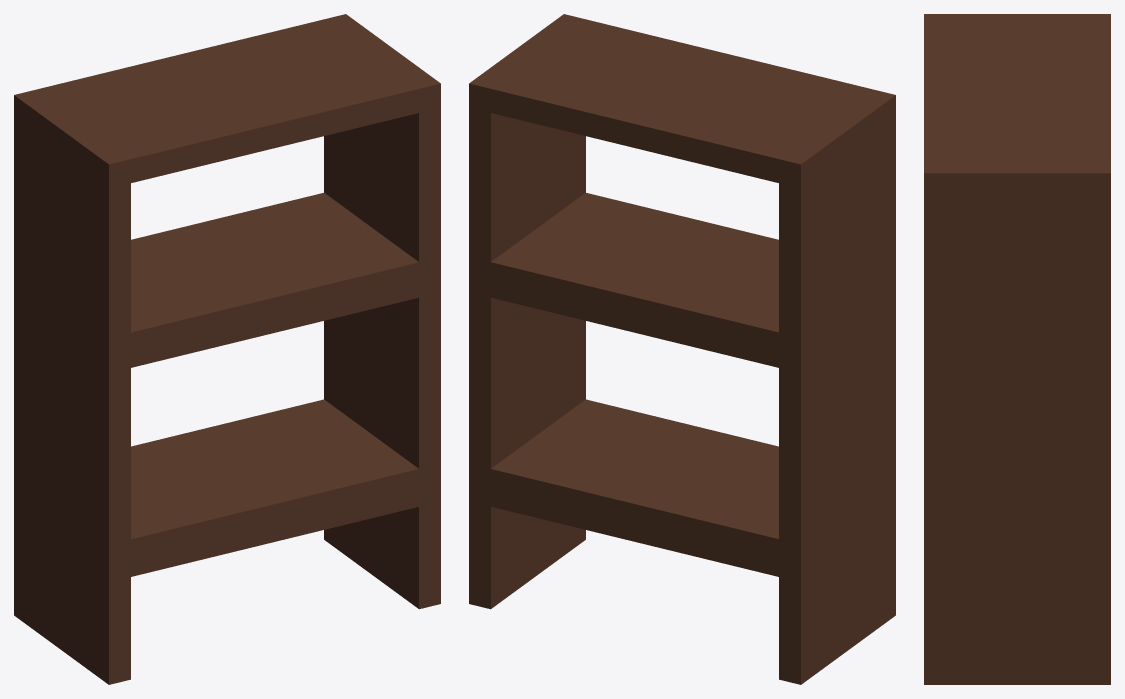
Rendered from cupboard.glb.
3 views of the same model, side by side, from view 1: azimuth 30°, elevation 25°; view 2: azimuth 150°, elevation 25°; view 3: azimuth 270°, elevation 25° (orthographic).
Visible parts, largest first — view 1: cupboard-col; view 2: cupboard-col; view 3: cupboard-col.
Boxes of the visible parts, x1,y1,x2,y2 form: cupboard-col: [14, 14, 440, 684]; cupboard-col: [469, 14, 895, 684]; cupboard-col: [924, 14, 1110, 684].
Bounding box in the file's own units: 1 × 1.5 × 0.4956.
